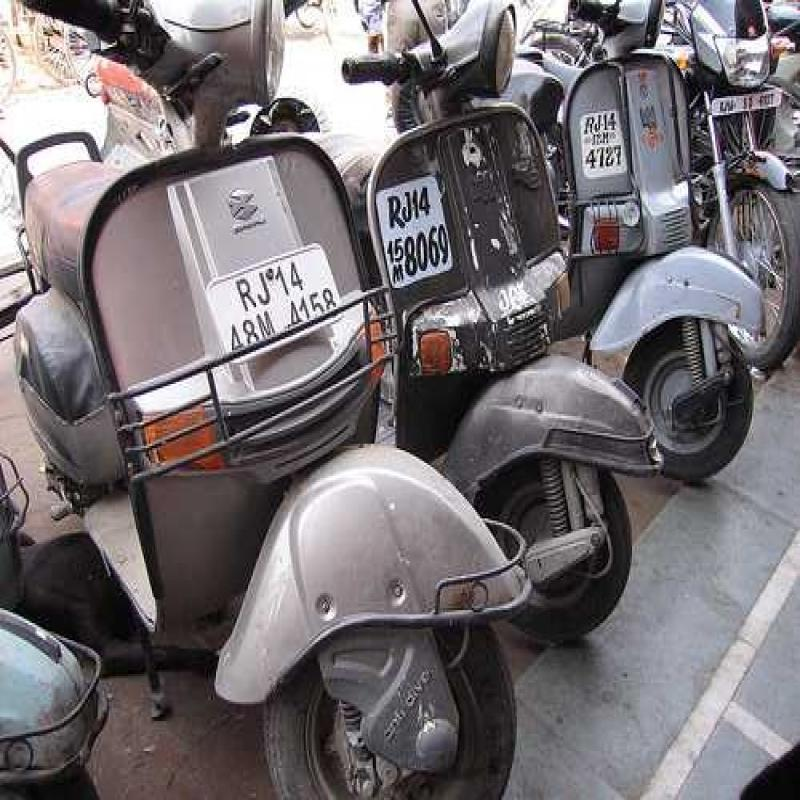bike: (50, 5, 543, 800), (353, 0, 659, 649), (559, 8, 779, 466)
